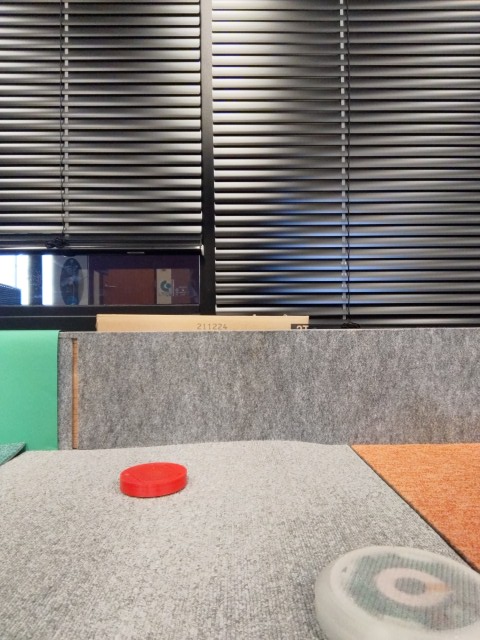o: (305, 541, 480, 640)
